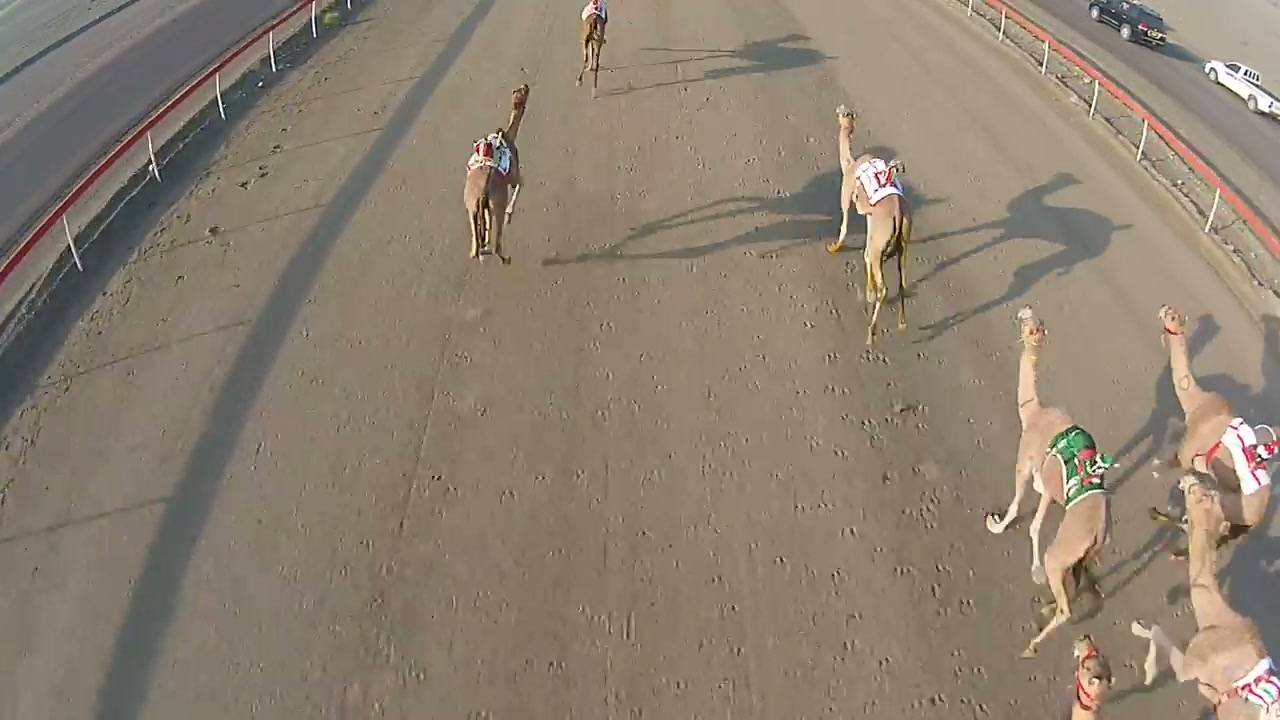animal_foot_print: (815, 295, 1030, 715), (344, 273, 535, 693), (577, 295, 713, 682)
